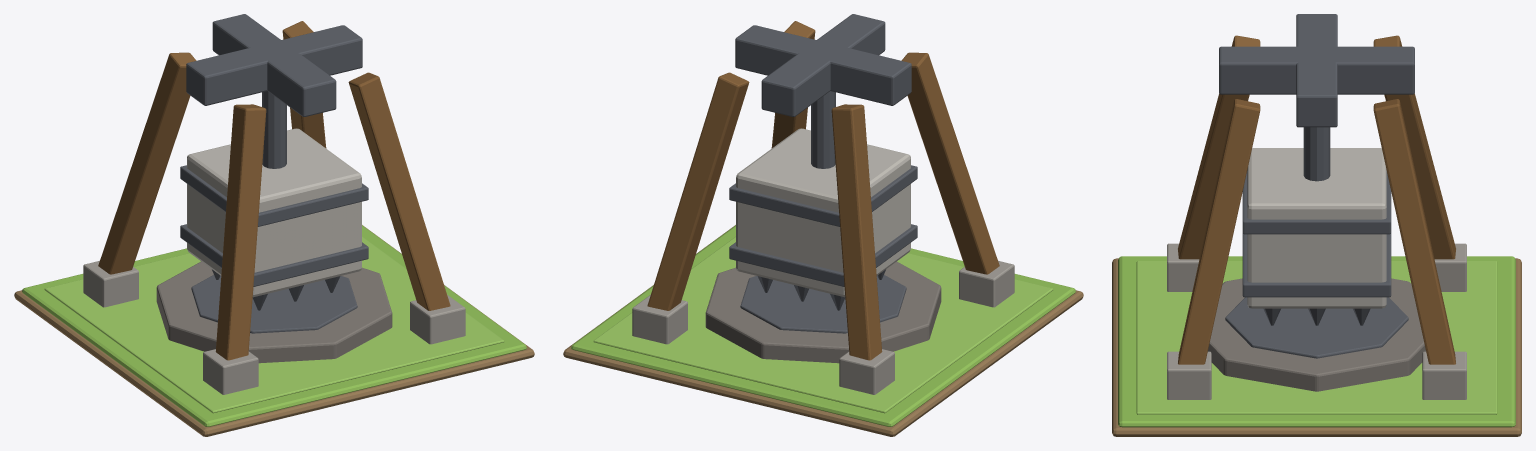
The model's file is crusher.glb.
3 views of the same model, side by side, from view 1: azimuth 30°, elevation 25°; view 2: azimuth 150°, elevation 25°; view 3: azimuth 270°, elevation 25° (orthographic). The views are drawn at different scales.
Visible parts, largest first — view 1: Base_Inner, CrusherStoneBlock, Base_Grass, CrusherAnvilStone, CrusherLeg_-1_-1, CrusherLeg_1_-1, CrusherLeg_-1_1, CrusherTopFrameX, Base_Dirt, CrusherTopFrameY, CrusherTargetRing, CrusherBandUpper (+6 smaller); view 2: Base_Inner, CrusherStoneBlock, Base_Grass, CrusherAnvilStone, CrusherLeg_-1_1, CrusherLeg_1_1, CrusherLeg_-1_-1, CrusherTopFrameX, Base_Dirt, CrusherTopFrameY, CrusherTargetRing, CrusherBandUpper (+6 smaller); view 3: Base_Inner, CrusherStoneBlock, Base_Grass, CrusherAnvilStone, CrusherTopFrameY, CrusherLeg_1_1, CrusherLeg_1_-1, CrusherTargetRing, Base_Dirt, CrusherTopFrameX, CrusherLeg_-1_1, CrusherLeg_-1_-1 (+7 smaller).
Part boxes in pixels (x1,y1,x2,y2): Base_Inner: [44, 236, 504, 413]; CrusherStoneBlock: [187, 128, 361, 297]; Base_Grass: [22, 225, 526, 426]; CrusherAnvilStone: [156, 261, 392, 363]; CrusherLeg_-1_-1: [215, 104, 266, 360]; CrusherLeg_1_-1: [348, 72, 450, 310]; CrusherLeg_-1_1: [98, 52, 196, 274]; CrusherTopFrameX: [186, 25, 362, 105]; Base_Dirt: [14, 225, 534, 436]; CrusherTopFrameY: [212, 14, 336, 116]; CrusherTargetRing: [191, 275, 357, 333]; CrusherBandUpper: [180, 165, 368, 226]; Base_Inner: [593, 236, 1053, 413]; CrusherStoneBlock: [736, 128, 910, 297]; Base_Grass: [571, 225, 1075, 426]; CrusherAnvilStone: [705, 261, 941, 363]; CrusherLeg_-1_1: [831, 104, 882, 360]; CrusherLeg_1_1: [647, 72, 749, 310]; CrusherLeg_-1_-1: [901, 52, 999, 274]; CrusherTopFrameX: [735, 25, 911, 105]; Base_Dirt: [563, 225, 1083, 436]; CrusherTopFrameY: [761, 14, 885, 116]; CrusherTargetRing: [740, 275, 906, 333]; CrusherBandUpper: [729, 165, 917, 226]; Base_Inner: [1136, 261, 1497, 414]; CrusherStoneBlock: [1247, 148, 1386, 308]; Base_Grass: [1118, 256, 1515, 427]; CrusherAnvilStone: [1208, 278, 1425, 391]; CrusherTopFrameY: [1219, 46, 1414, 94]; CrusherLeg_1_1: [1373, 99, 1455, 364]; CrusherLeg_1_-1: [1178, 99, 1260, 364]; CrusherTargetRing: [1225, 297, 1408, 358]; Base_Dirt: [1112, 258, 1521, 436]; CrusherTopFrameX: [1296, 14, 1337, 127]; CrusherLeg_-1_1: [1373, 35, 1455, 259]; CrusherLeg_-1_-1: [1178, 35, 1260, 259].
Size of the model in its own units: 2.76 by 2.21 by 2.76.
